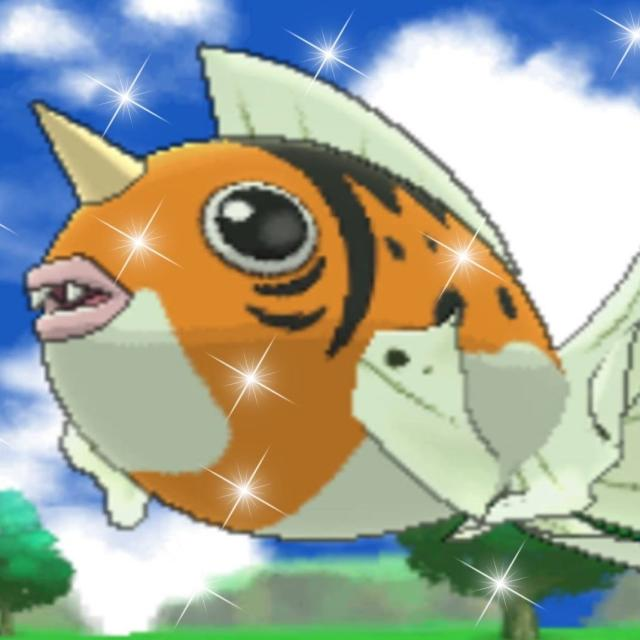Seaking: (26, 48, 620, 533)
